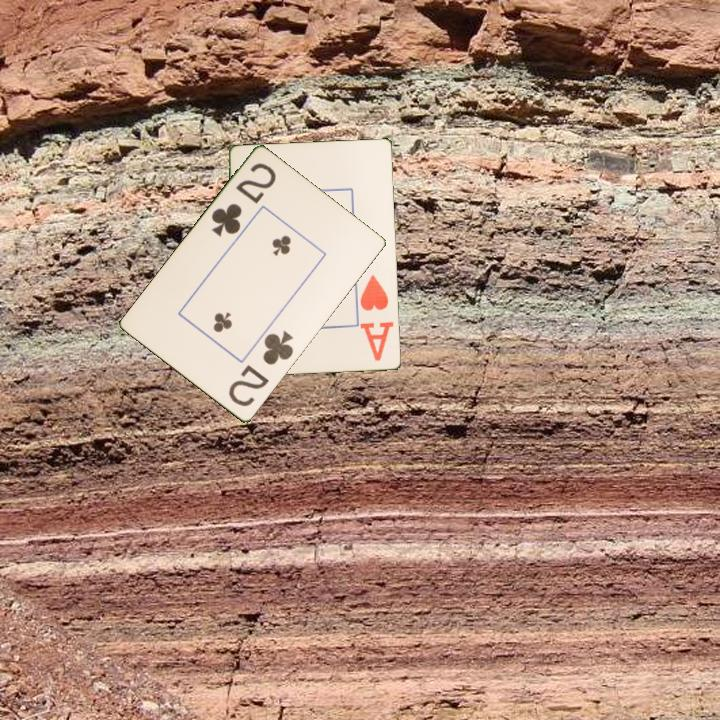2c: (225, 328, 297, 410), (207, 160, 279, 240)
Ah: (357, 271, 397, 364)
